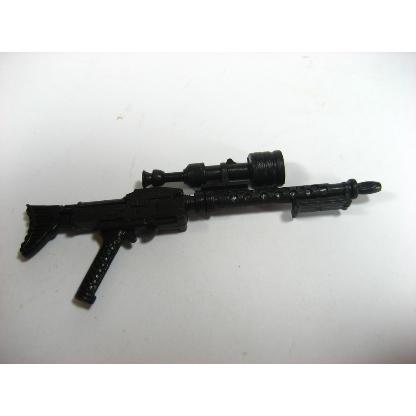gun: (12, 147, 380, 309)
